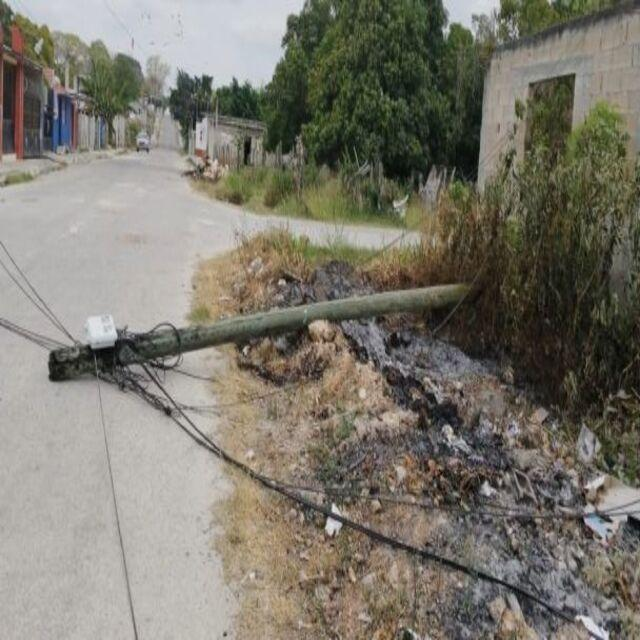Inclined Pole: (44, 280, 477, 384)
